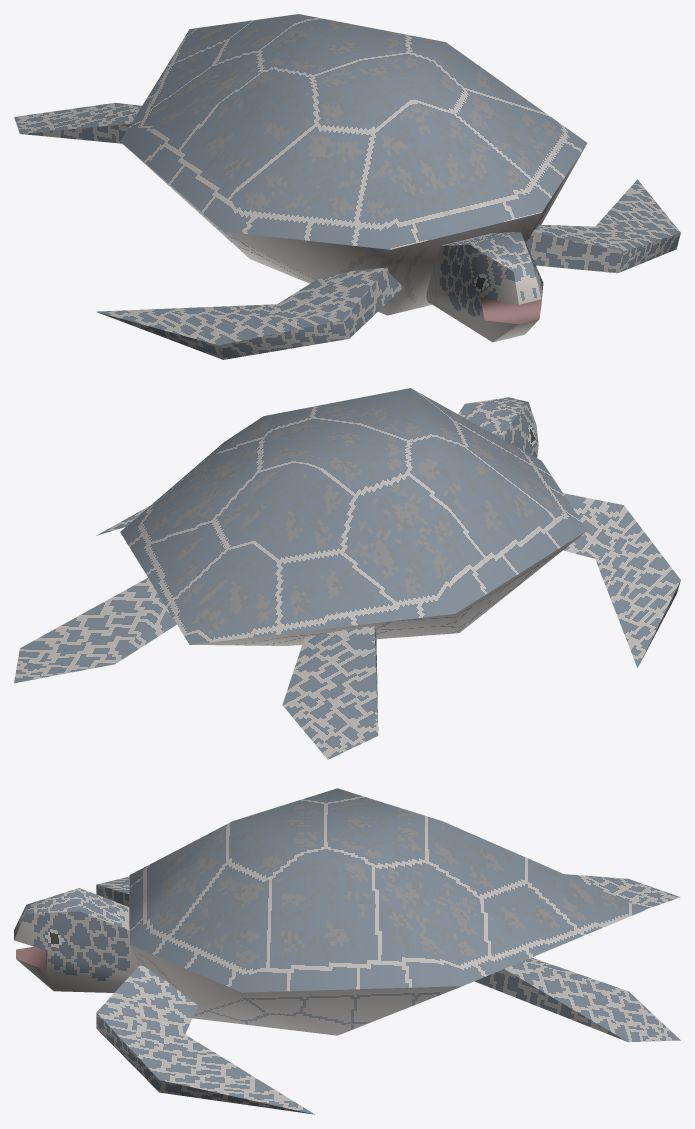
The model's file is 02e3_Sea_Turtle.glb.
3 renders of one model, top to bottom at view 1: azimuth 30°, elevation 25°; view 2: azimuth 150°, elevation 25°; view 3: azimuth 270°, elevation 25°, orthographic. The views are drawn at different scales.
Parts seen in each view (by area): view 1: part_0; view 2: part_0; view 3: part_0.
Boxes of the visible parts, x1,y1,x2,y2 form: part_0: [14, 14, 680, 359]; part_0: [14, 388, 680, 759]; part_0: [14, 788, 680, 1114].
Bounding box in the file's own units: 1.61 × 0.5168 × 1.84.
1 material, 1 textured.
